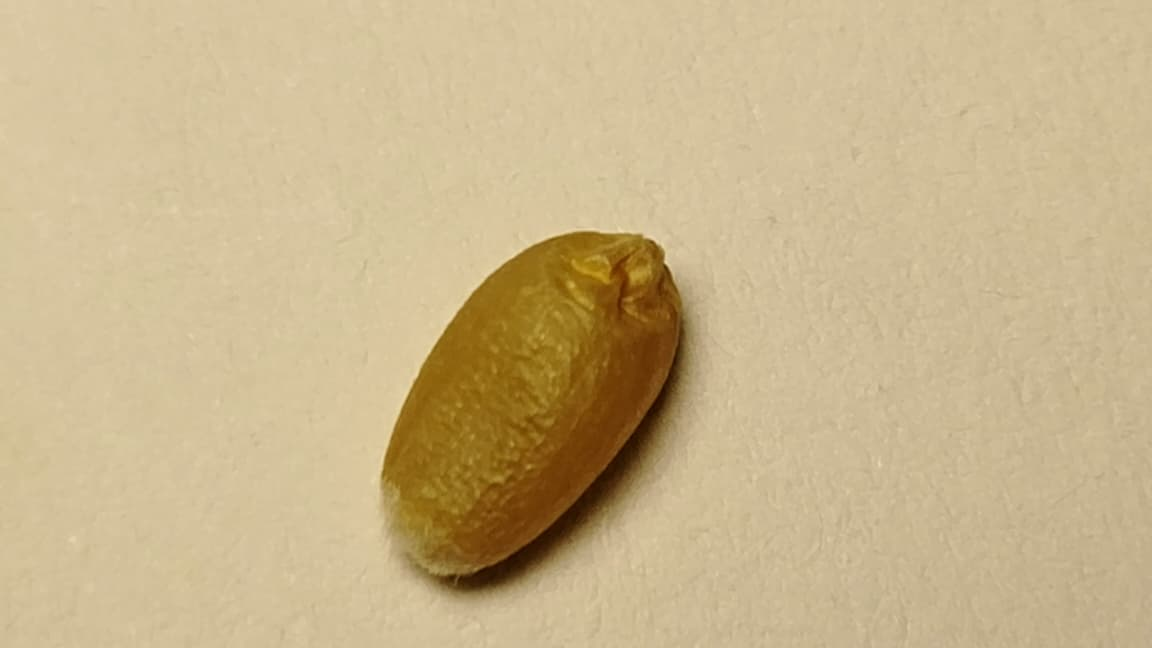healthy: (382, 231, 680, 574)
